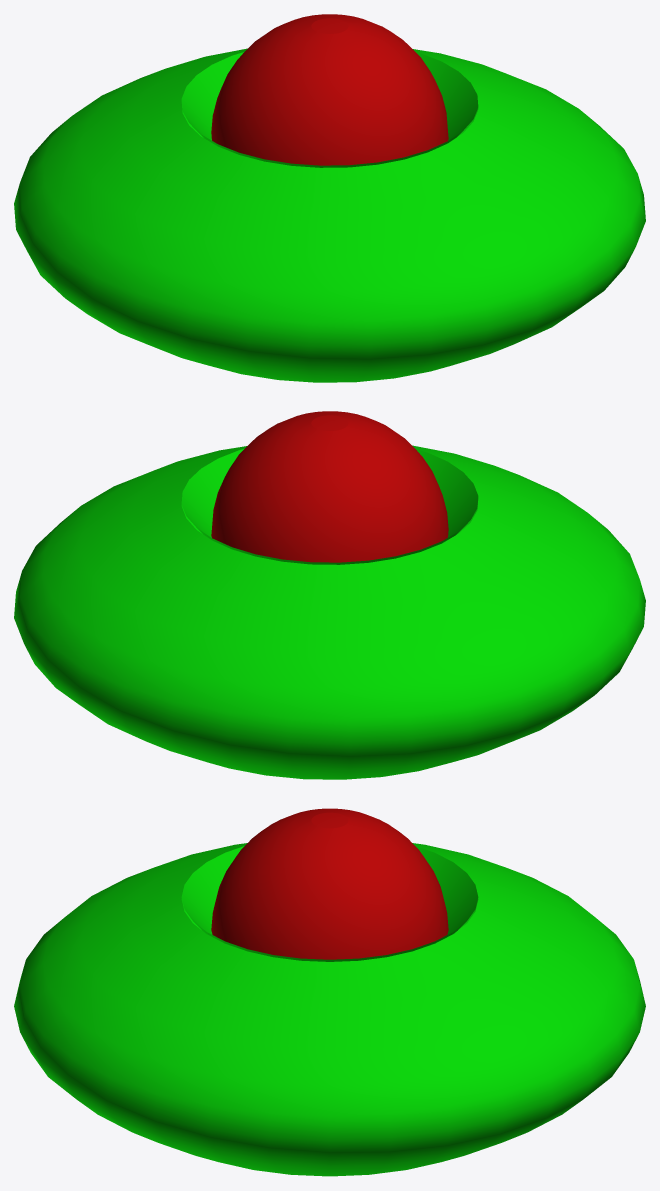
The model's file is KingBolete_Growth.glb.
3 views of the same model, one above another, from view 1: azimuth 30°, elevation 25°; view 2: azimuth 150°, elevation 25°; view 3: azimuth 270°, elevation 25° (orthographic).
Visible parts, largest first — view 1: KingBolete; view 2: KingBolete; view 3: KingBolete.
Boxes of the visible parts, x1,y1,x2,y2 form: KingBolete: (14, 14, 645, 382); KingBolete: (14, 411, 645, 779); KingBolete: (14, 808, 645, 1176).
Bounding box in the file's own units: 0.0426 × 0.0257 × 0.0426.
